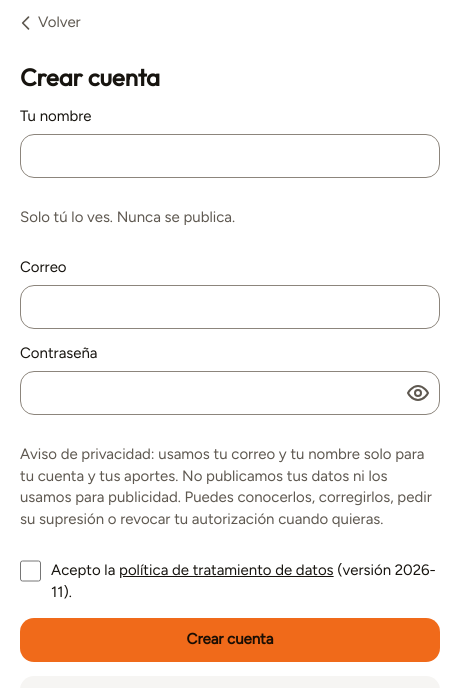
crear cuenta › con un nombre que no vale («A») no crea la cuenta y dice por qué
Type "A" into the field labelled "Tu nombre". click: (230, 156)
box: top-left (20, 134), bottom-right (440, 178)
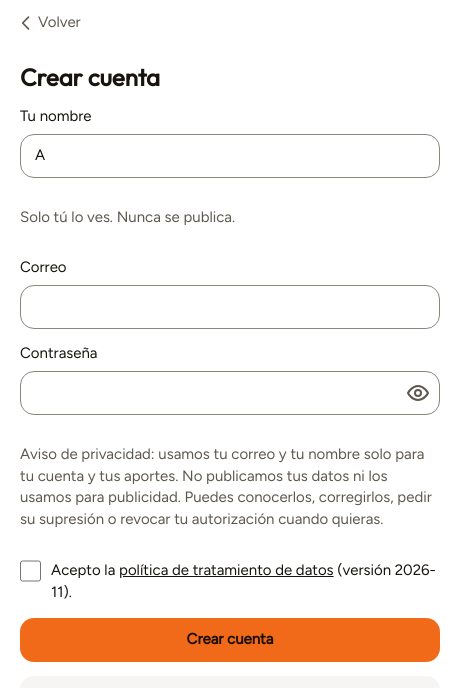
Type "ana@correo.co" into the field labelled "Correo". click: (230, 307)
box: top-left (20, 285), bottom-right (440, 329)
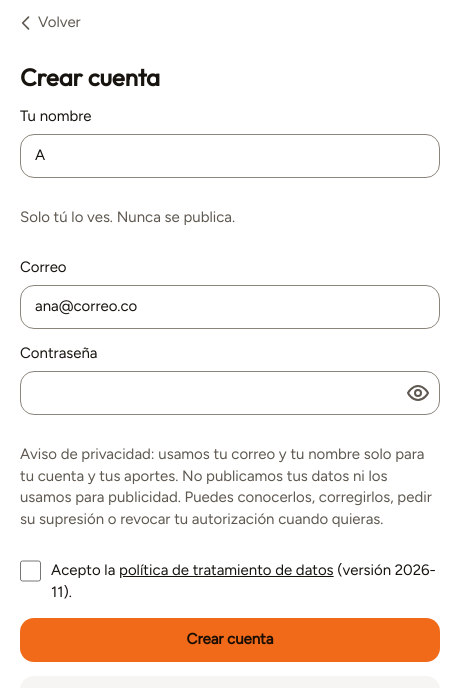
Type "una clave larga" into the password field labelled "Contraseña". click: (230, 393)
box: top-left (20, 371), bottom-right (440, 415)
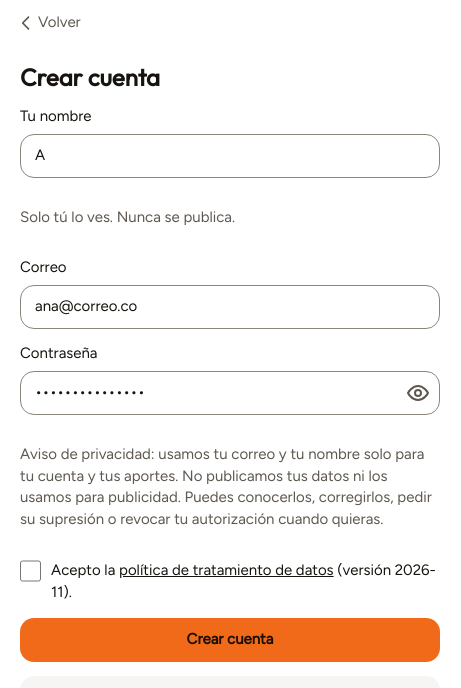
Click the checkbox labelled "política de tratamiento de datos". click: click(31, 571)
box: top-left (20, 560), bottom-right (41, 582)
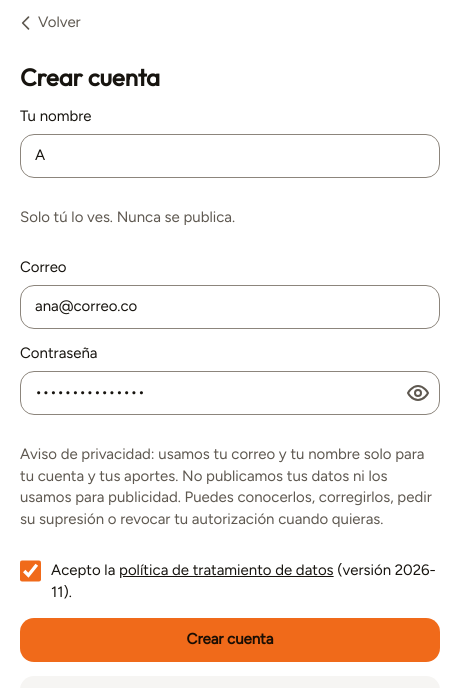
Click the button "Crear cuenta". click: click(230, 640)
box: top-left (20, 618), bottom-right (440, 662)
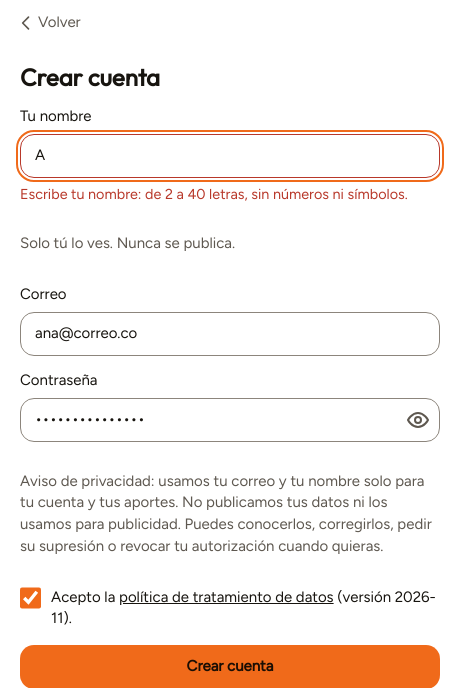
Expected: the message reads "Escribe tu nombre: de 2 a 40 letras, sin números ni símbolos.", top-left (20, 184), bottom-right (408, 202)
